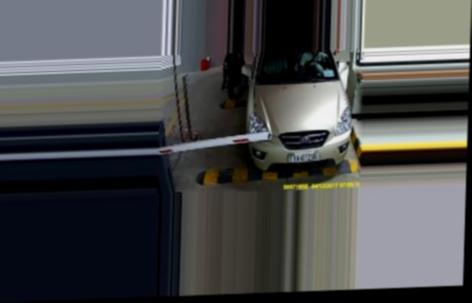License_Plate: (288, 151, 322, 163)
